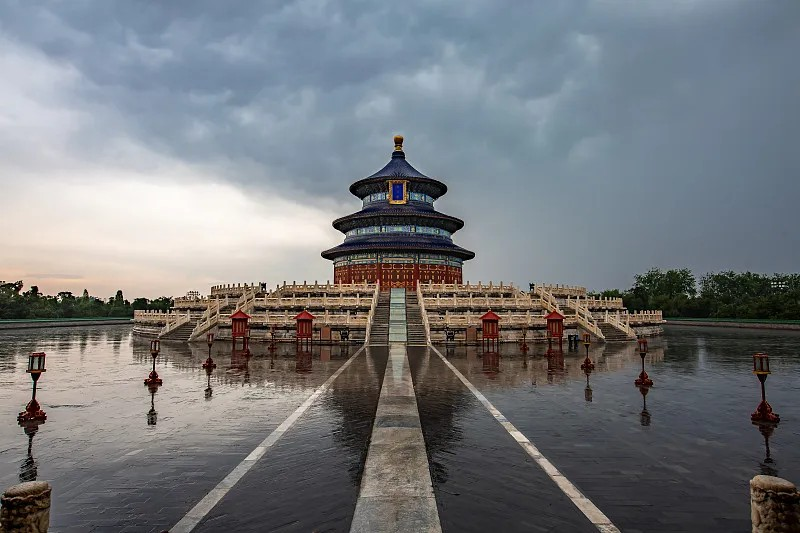Heaven: (321, 133, 476, 289)
